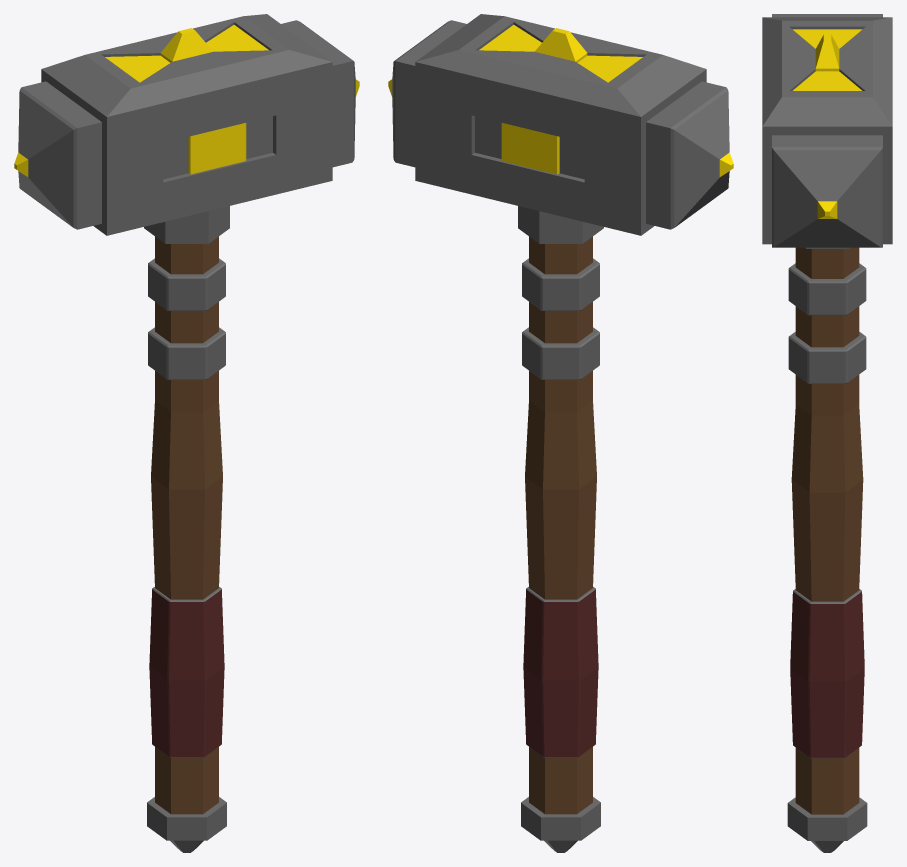
The model's file is WarHammer.fbx.
3 renders of one model, left to right at view 1: azimuth 30°, elevation 25°; view 2: azimuth 150°, elevation 25°; view 3: azimuth 270°, elevation 25°, orthographic.
Visible parts, largest first — view 1: Hammer2; view 2: Hammer2; view 3: Hammer2.
Boxes of the visible parts, x1,y1,x2,y2 form: Hammer2: (14, 14, 359, 852); Hammer2: (388, 14, 733, 852); Hammer2: (762, 14, 892, 852).
Bounding box in the file's own units: 115 × 263 × 38.19.
